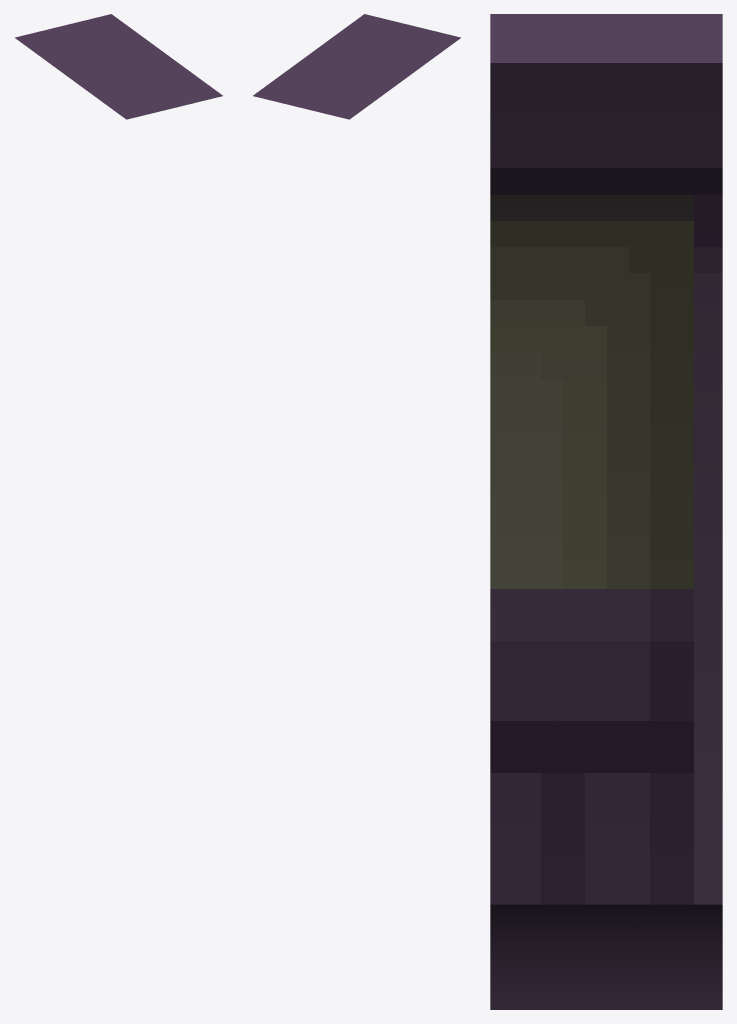
3 renders of one model, left to right at view 1: azimuth 30°, elevation 25°; view 2: azimuth 150°, elevation 25°; view 3: azimuth 270°, elevation 25°, orthographic. The views are drawn at different scales.
Bounding box in the file's own units: 0.5 × 4.5 × 1.
2 materials, 2 textured.
